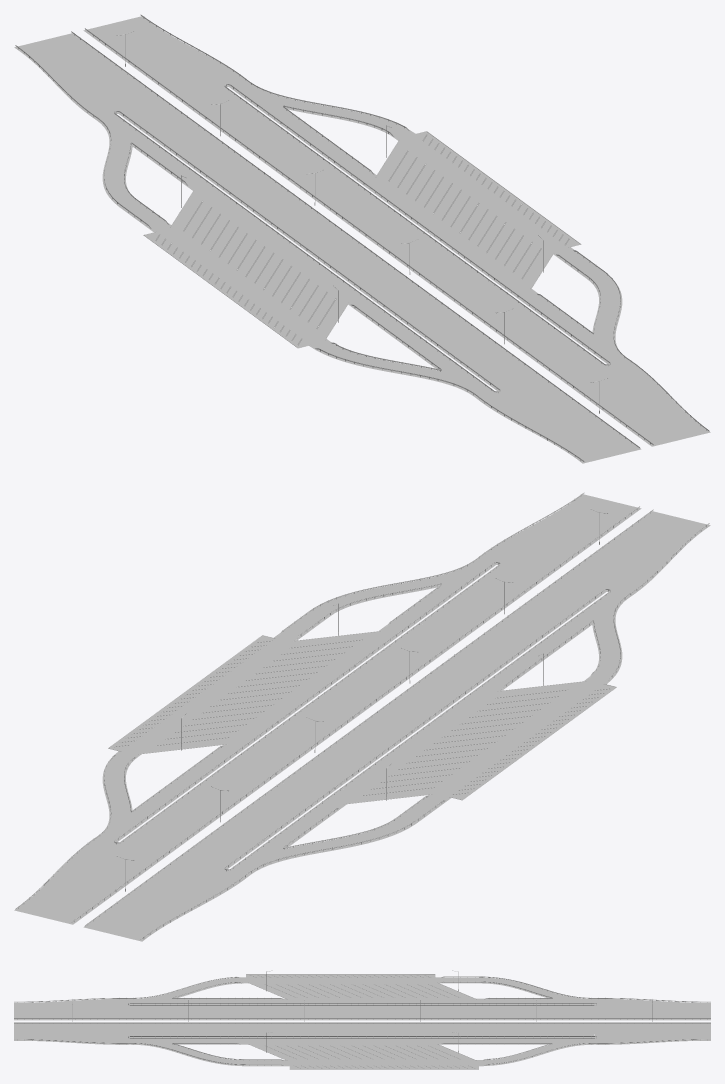
Rendered from Truck_Stop.fbx.
3 views of the same model, one above another, from view 1: azimuth 30°, elevation 25°; view 2: azimuth 150°, elevation 25°; view 3: azimuth 270°, elevation 25° (orthographic). The views are drawn at different scales.
Parts seen in each view (by area): view 1: Truck_Stop_Surface, Truck_Stop_Pavement, Truck_Stop_Edges, Truck_Stop_Barriers, Truck_Stop_Markings_Trucks, Truck_Stop_Curbs; view 2: Truck_Stop_Surface, Truck_Stop_Pavement, Truck_Stop_Edges, Truck_Stop_Barriers, Truck_Stop_Markings_Trucks, Truck_Stop_Markings_Cars, Truck_Stop_Curbs; view 3: Truck_Stop_Surface, Truck_Stop_Pavement, Truck_Stop_Barriers, Truck_Stop_Edges, Truck_Stop_Markings_Trucks, Truck_Stop_Curbs, Truck_Stop_Markings_Cars, Truck_Stop_Streetlights.
Boxes of the visible parts, x1,y1,x2,y2 form: Truck_Stop_Surface: (18,17,707,462); Truck_Stop_Pavement: (145,131,579,347); Truck_Stop_Edges: (14,16,710,463); Truck_Stop_Barriers: (15,14,709,461); Truck_Stop_Markings_Trucks: (183,150,541,328); Truck_Stop_Curbs: (143,131,581,348); Truck_Stop_Surface: (17,495,706,940); Truck_Stop_Pavement: (109,631,615,804); Truck_Stop_Edges: (14,494,710,941); Truck_Stop_Barriers: (15,492,709,939); Truck_Stop_Markings_Trucks: (157,639,567,795); Truck_Stop_Markings_Cars: (114,640,610,794); Truck_Stop_Curbs: (108,631,616,804); Truck_Stop_Surface: (14,978,710,1065); Truck_Stop_Pavement: (246,974,478,1069); Truck_Stop_Barriers: (14,976,710,1065); Truck_Stop_Edges: (14,977,710,1066); Truck_Stop_Markings_Trucks: (265,984,460,1059); Truck_Stop_Curbs: (246,974,478,1069); Truck_Stop_Markings_Cars: (250,975,474,1068); Truck_Stop_Streetlights: (72,970,652,1052).
Size of the model in its own units: 12440 by 38400 by 1271.
